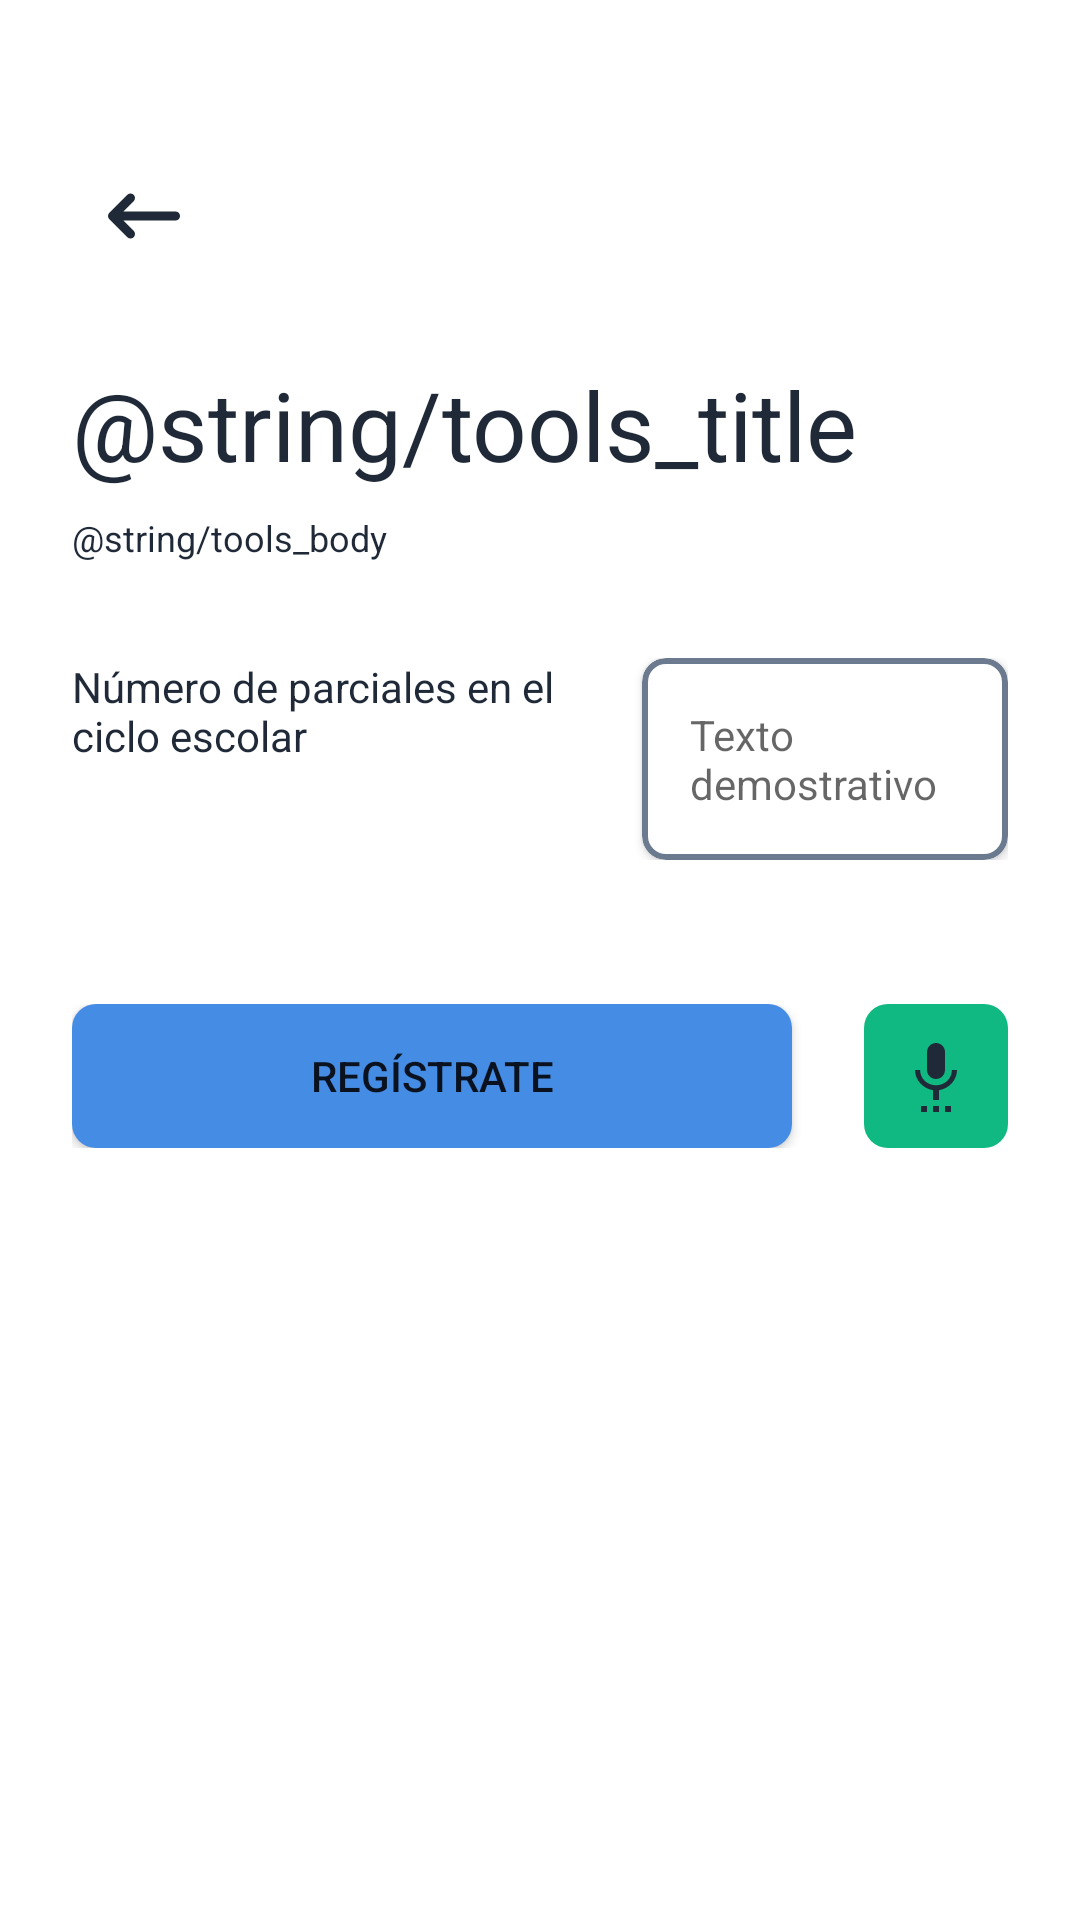

Icon bounding boxes for this 1080w x 1920h phone screenshot, format (x1, y1, x2, y2):
return: (108, 193, 180, 239)
voice: (864, 1004, 1008, 1148)
